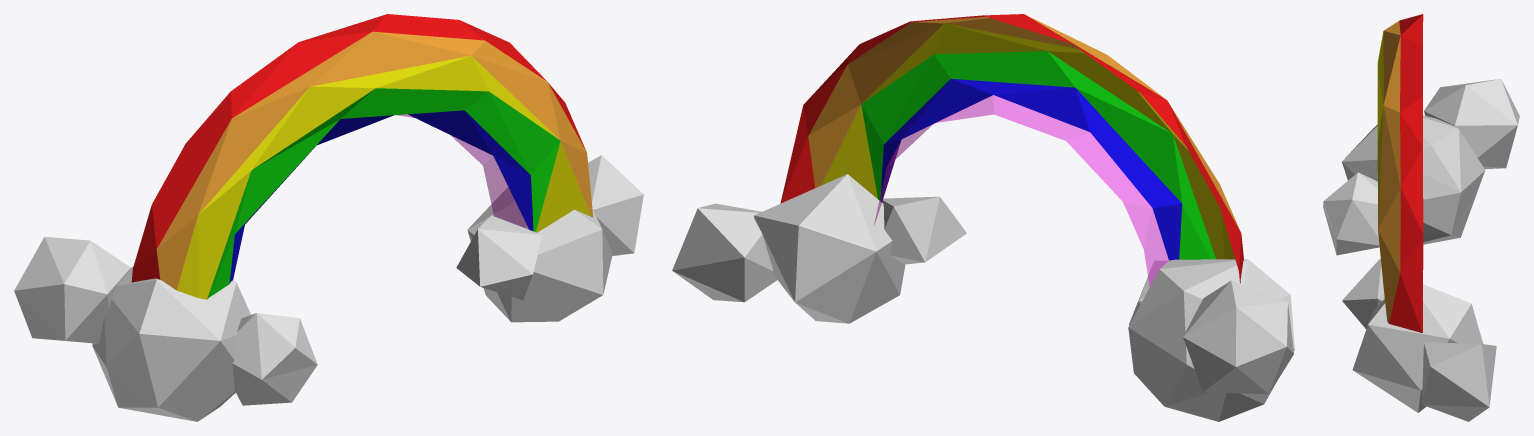
File: rainbow.glb
3 renders of one model, left to right at view 1: azimuth 30°, elevation 25°; view 2: azimuth 150°, elevation 25°; view 3: azimuth 270°, elevation 25°, orthographic. The views are drawn at different scales.
Parts seen in each view (by area): view 1: Torus, Icosphere.002, Icosphere.000; view 2: Torus, Icosphere.000, Icosphere.002; view 3: Icosphere.002, Icosphere.000, Torus.
Part boxes in pixels (x1,y1,x2,y2): Torus: (131, 14, 593, 299); Icosphere.002: (14, 236, 317, 421); Icosphere.000: (456, 155, 643, 322); Torus: (780, 14, 1243, 286); Icosphere.000: (672, 174, 966, 323); Icosphere.002: (1128, 259, 1294, 421); Icosphere.002: (1323, 79, 1519, 255); Icosphere.000: (1342, 258, 1496, 421); Torus: (1377, 14, 1423, 332).
Size of the model in its own units: 3.31 by 1.81 by 1.09.
